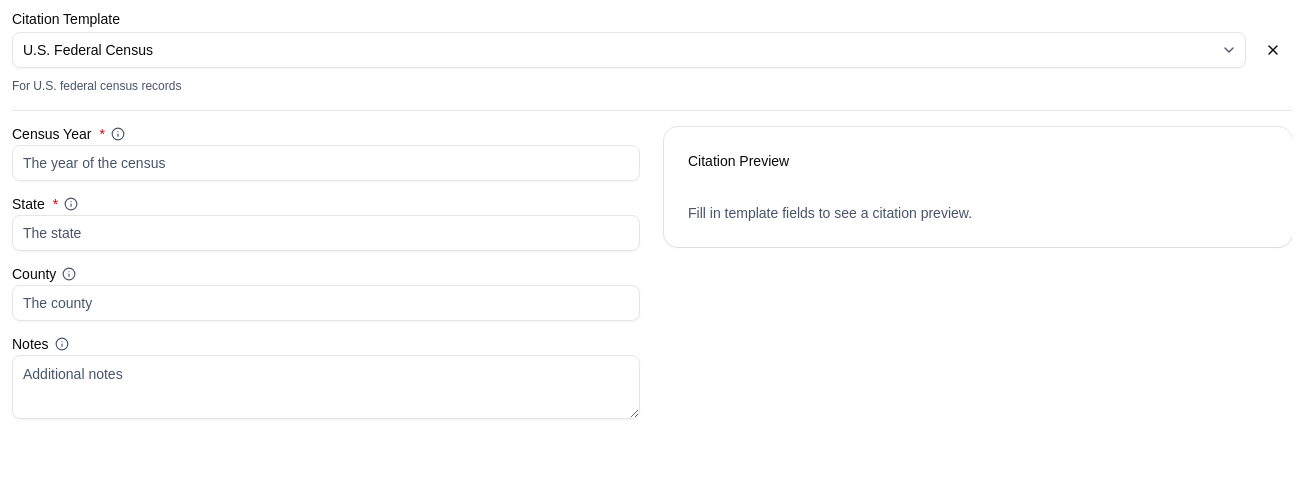
CitationTemplateForm › shows validation issues from preview
Note: Type in a field to trigger preview
Type "test" into the field with id "template-field-year".
click(326, 163); type("test")  # box [12,145,640,181]
Wait 300 ms
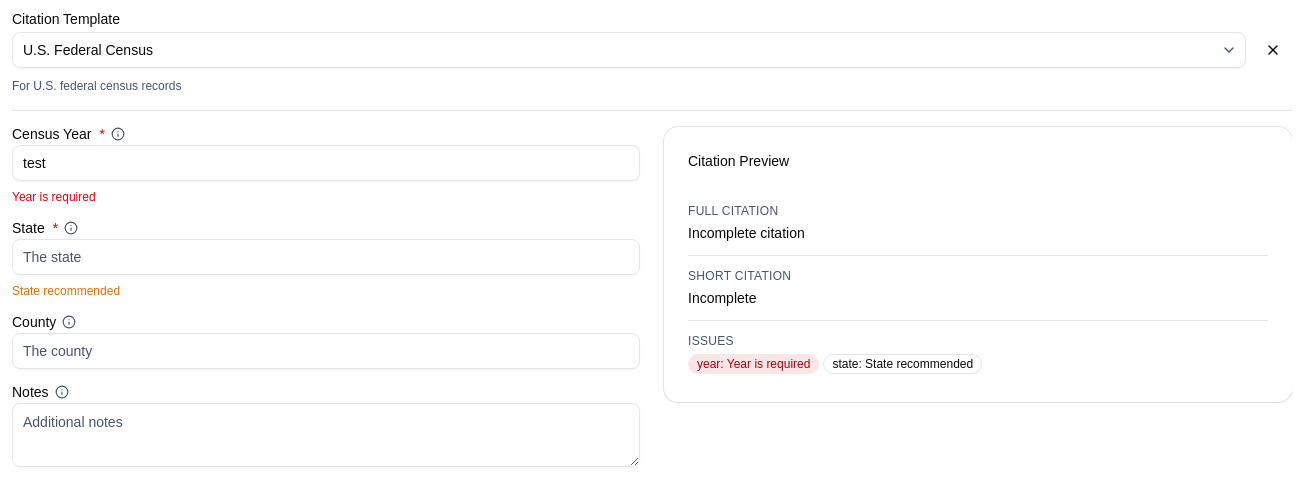
Now the text "Issues" is shown, box [688,334,734,348]
Now the text "year: Year is required" is shown, box [688,354,819,374]
Now the text "state: State recommended" is shown, box [823,354,982,374]
